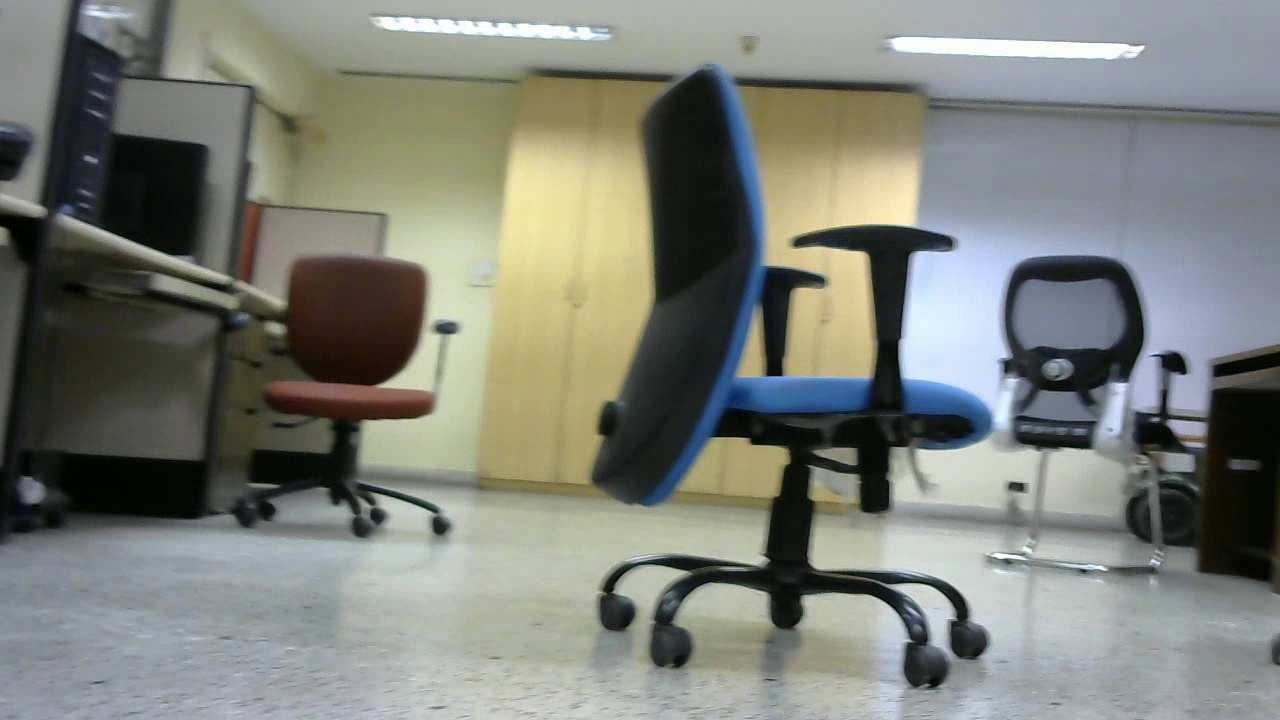chair: (589, 60, 1003, 691), (229, 245, 466, 551), (980, 247, 1188, 584)
